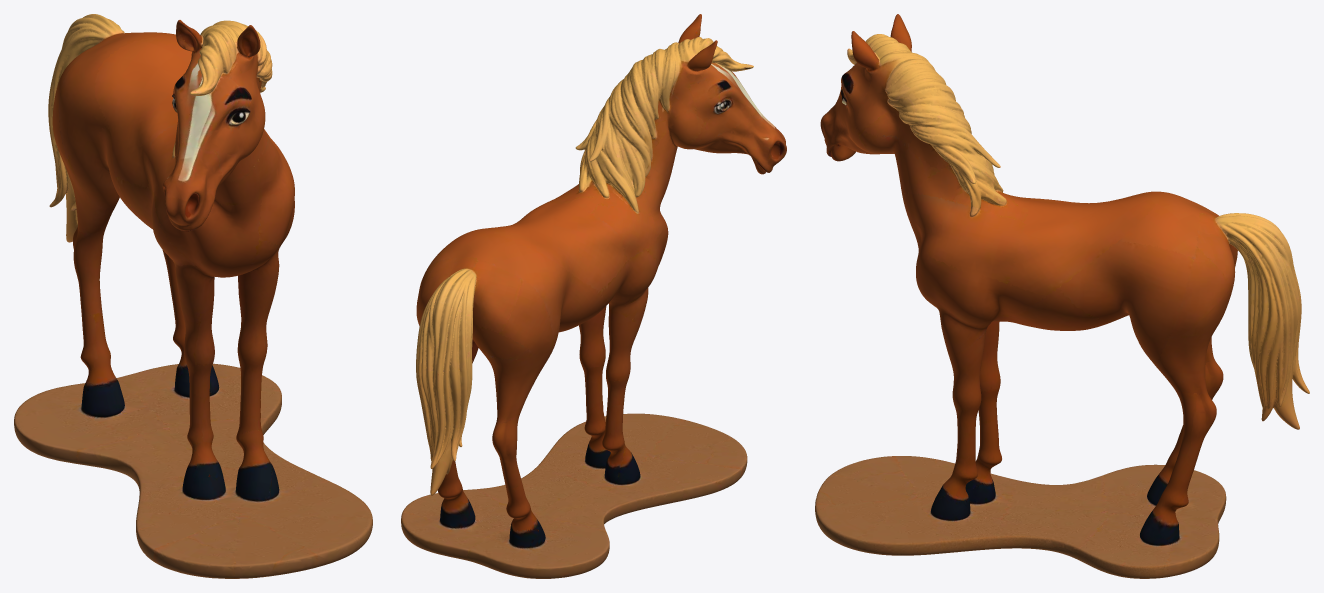
Rendered from Meshy_AI_A_flat_wooden_theater_0823154429_texture-optimized.glb.
3 views of the same model, side by side, from view 1: azimuth 30°, elevation 25°; view 2: azimuth 150°, elevation 25°; view 3: azimuth 270°, elevation 25° (orthographic). The views are drawn at different scales.
Parts seen in each view (by area): view 1: mesh_node; view 2: mesh_node; view 3: mesh_node.
Part boxes in pixels (x1,y1,x2,y2): mesh_node: (14,14,372,578); mesh_node: (401,14,786,578); mesh_node: (815,14,1309,578).
Bounding box in the file's own units: 1.04 × 1.9 × 1.79.
1 material, 1 textured.
